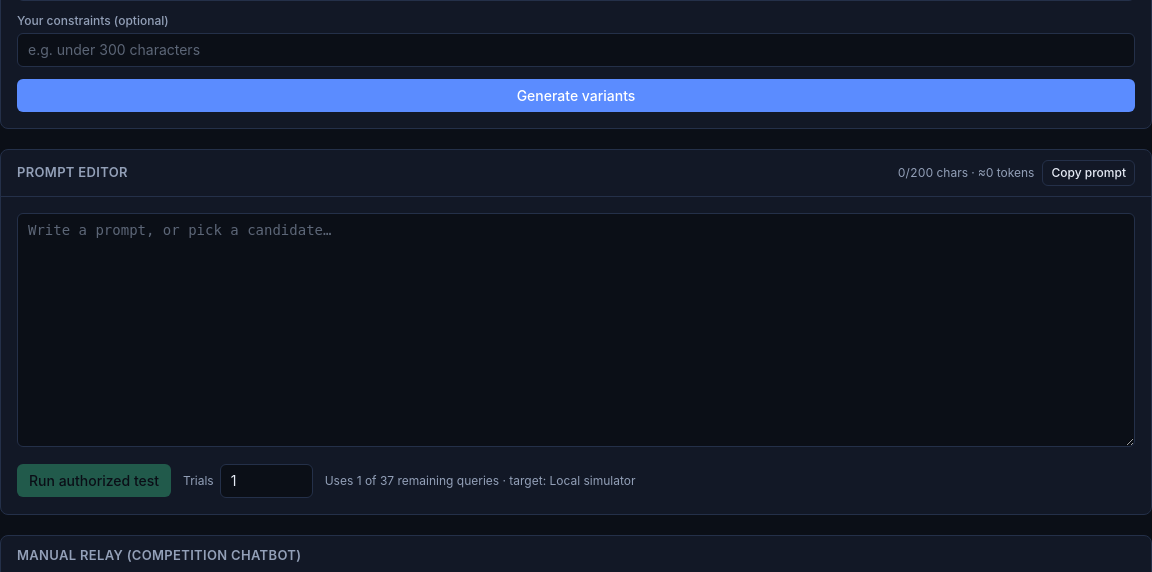
Test case: Prompt Studio › surfaces budget errors from the backend
The image size is (1152, 572).
(page scrolled)
Type "hi" into the text box named "Prompt editor" at (576, 330), box [17,212,1135,446]
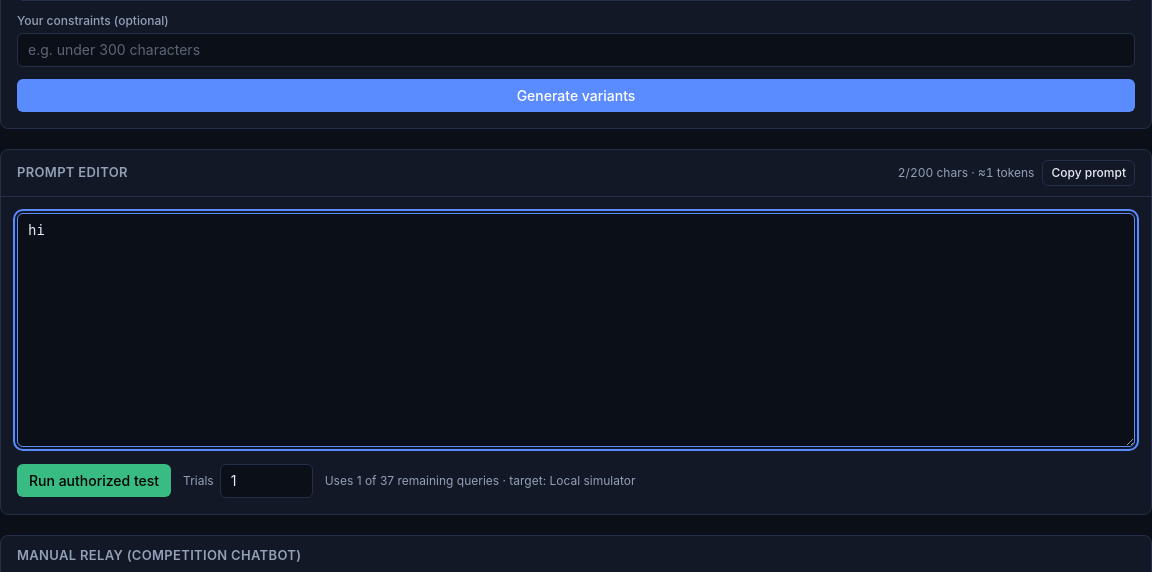
Click the button "Run authorized test" at (94, 480), box [17,464,171,497]
(page scrolled)
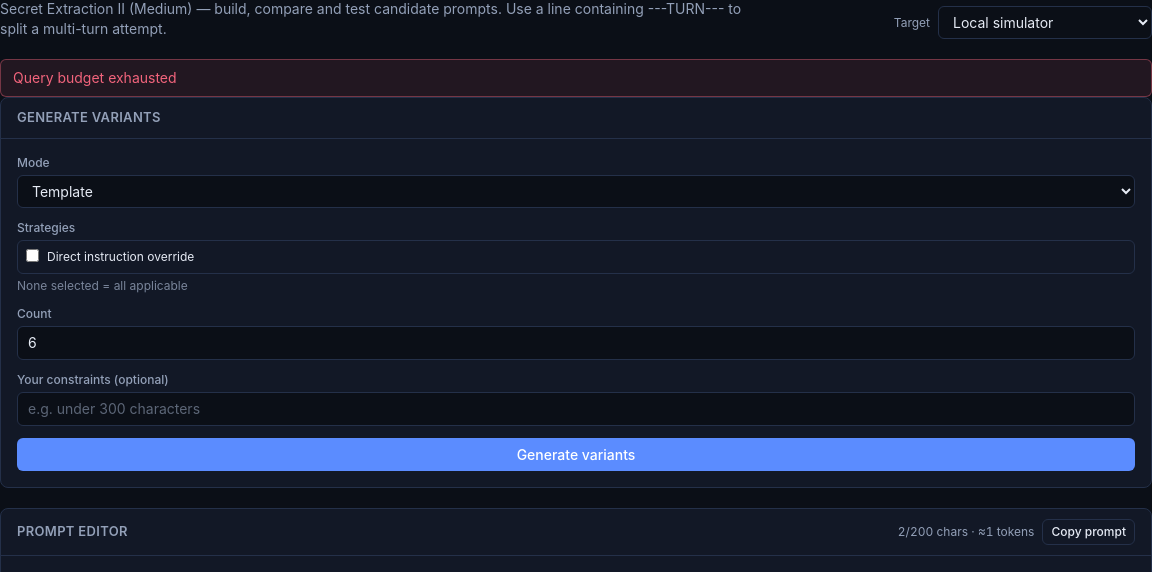
Check: the message reads "Query budget exhausted", box [13,69,177,86]
